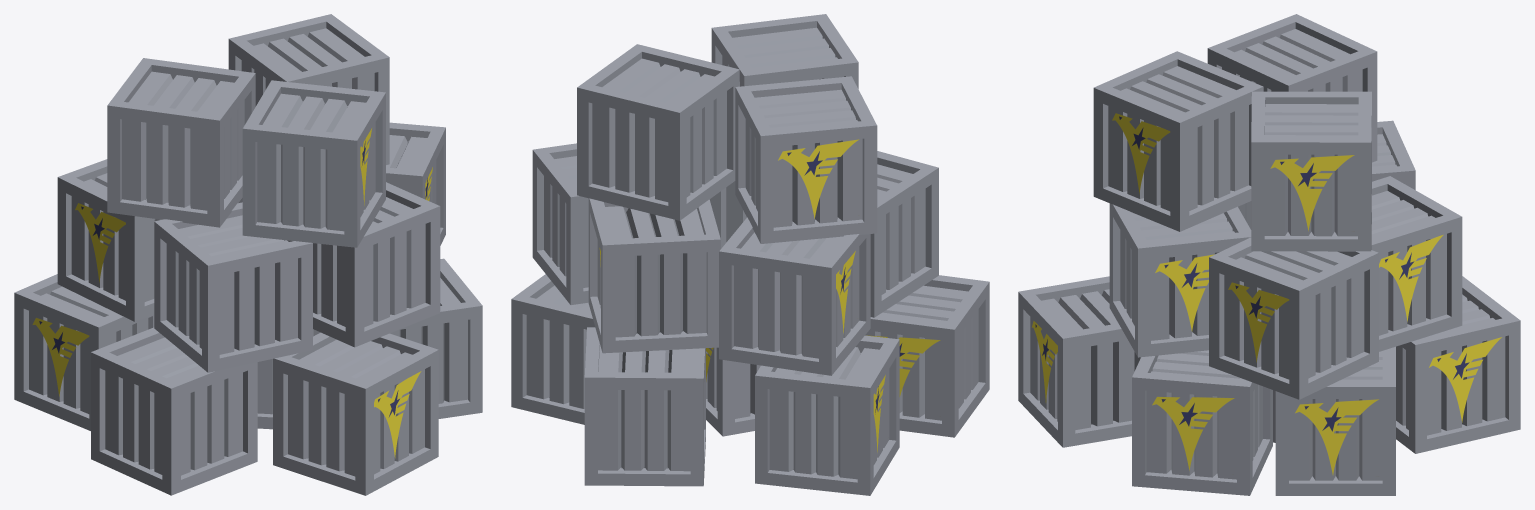
File: titans_box3.glb
3 renders of one model, left to right at view 1: azimuth 30°, elevation 25°; view 2: azimuth 150°, elevation 25°; view 3: azimuth 270°, elevation 25°, orthographic.
Parts seen in each view (by area): view 1: Cube.009; view 2: Cube.009; view 3: Cube.009.
Boxes of the visible parts, x1,y1,x2,y2 form: Cube.009: (14, 14, 482, 495); Cube.009: (511, 14, 989, 495); Cube.009: (1018, 14, 1520, 495).
Size of the model in its own units: 7.57 by 6 by 8.36.
Materials: 32 (16 with a texture image).
